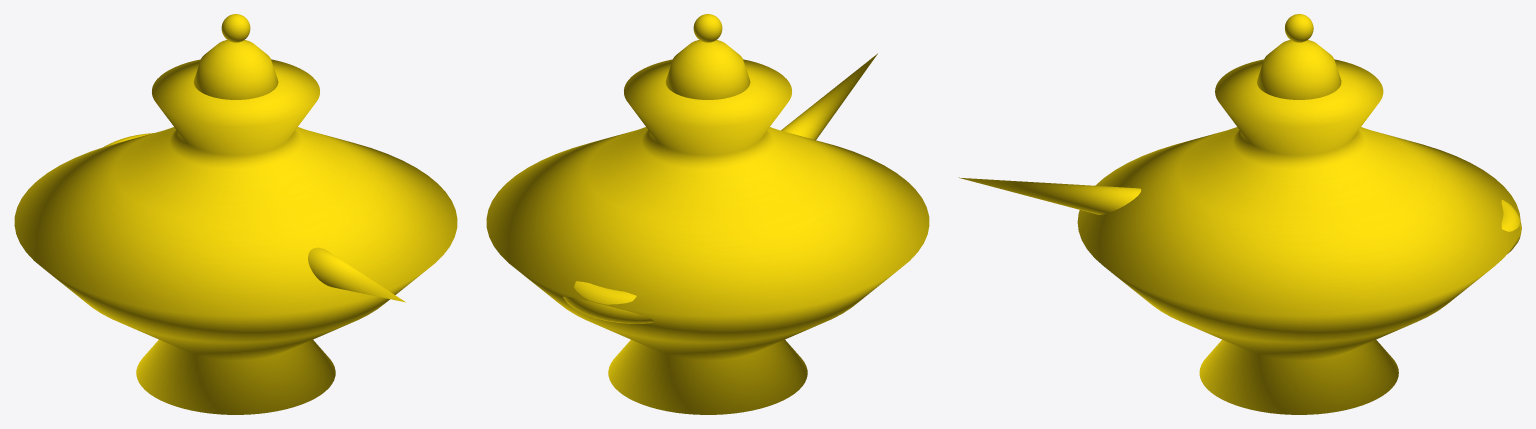
Rendered from ai_parts_4ccac0.glb.
3 renders of one model, left to right at view 1: azimuth 30°, elevation 25°; view 2: azimuth 150°, elevation 25°; view 3: azimuth 270°, elevation 25°, orthographic.
Parts seen in each view (by area): view 1: 00_lamp_body, 04_lid_dome, 01_spout, 05_lid_knob; view 2: 00_lamp_body, 04_lid_dome, 02_handle, 01_spout, 05_lid_knob; view 3: 00_lamp_body, 04_lid_dome, 01_spout, 05_lid_knob, 02_handle.
Part boxes in pixels (x1,y1,x2,y2): 00_lamp_body: (14, 59, 457, 414); 04_lid_dome: (193, 40, 278, 99); 01_spout: (308, 247, 405, 302); 05_lid_knob: (221, 14, 250, 42); 00_lamp_body: (486, 59, 929, 414); 04_lid_dome: (665, 40, 750, 99); 02_handle: (563, 281, 654, 323); 01_spout: (781, 53, 877, 139); 05_lid_knob: (693, 14, 722, 42); 00_lamp_body: (1077, 59, 1520, 414); 04_lid_dome: (1257, 40, 1341, 99); 01_spout: (958, 177, 1141, 214); 05_lid_knob: (1284, 14, 1313, 42); 02_handle: (1501, 199, 1521, 253).
Bounding box in the file's own units: 20 × 17.8 × 25.44.
Materials: 1 (1 with a texture image).
